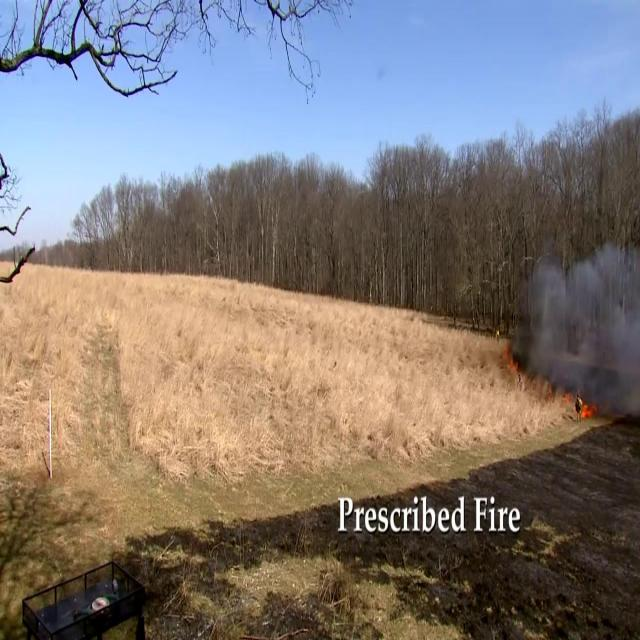Fire: (505, 349, 518, 370), (581, 401, 595, 418)
